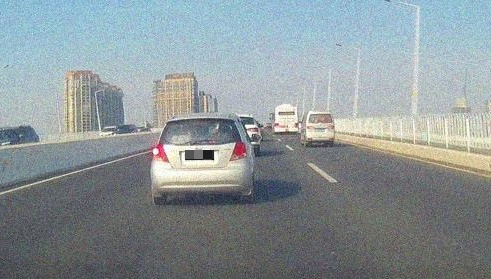L_light: (151, 142, 169, 163), (307, 125, 313, 129), (274, 123, 279, 126)
R_light: (229, 141, 247, 160), (329, 125, 334, 129), (294, 123, 298, 127)
T_light: (194, 118, 208, 122), (284, 107, 289, 109), (318, 114, 323, 116)
day-left: (151, 112, 253, 205)
day-no: (306, 111, 335, 147), (274, 104, 298, 134)
plate_1: (185, 150, 214, 160)
